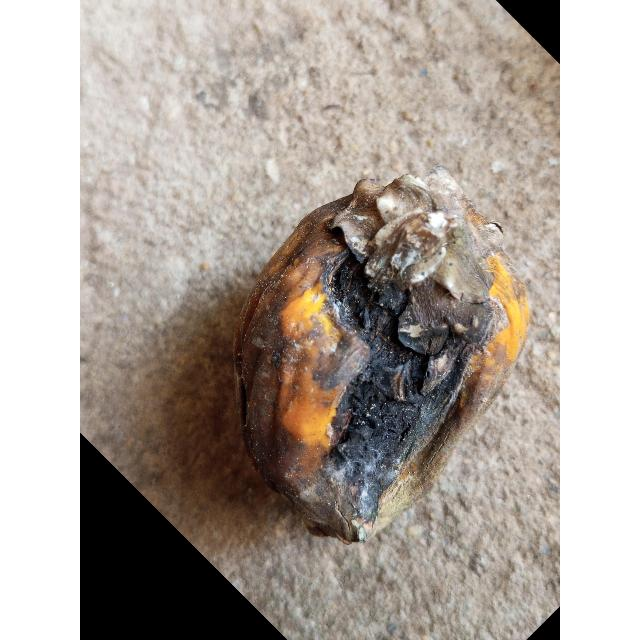damaged: (233, 169, 531, 546)
